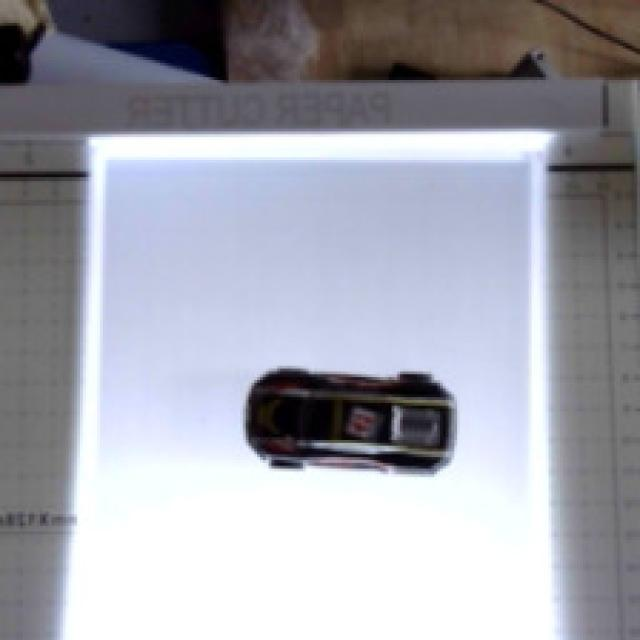Red Car: (220, 304, 526, 525)
